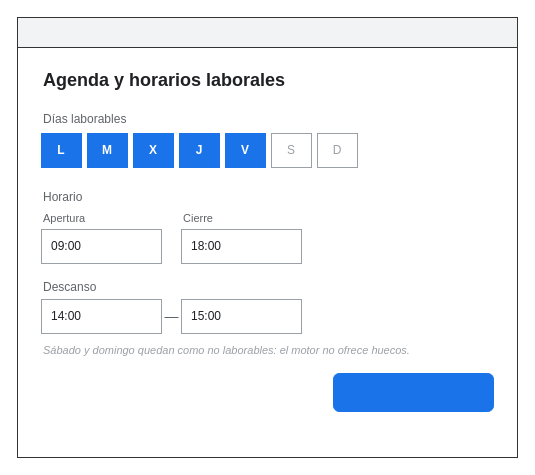
Some shapes in this 535 by 475 pixel diagram are drawn without their labels. Each missing label, with the centre of its shape:
Guardar cambios: point (413, 392)
Panel · Configuración de horarios: point (267, 32)
